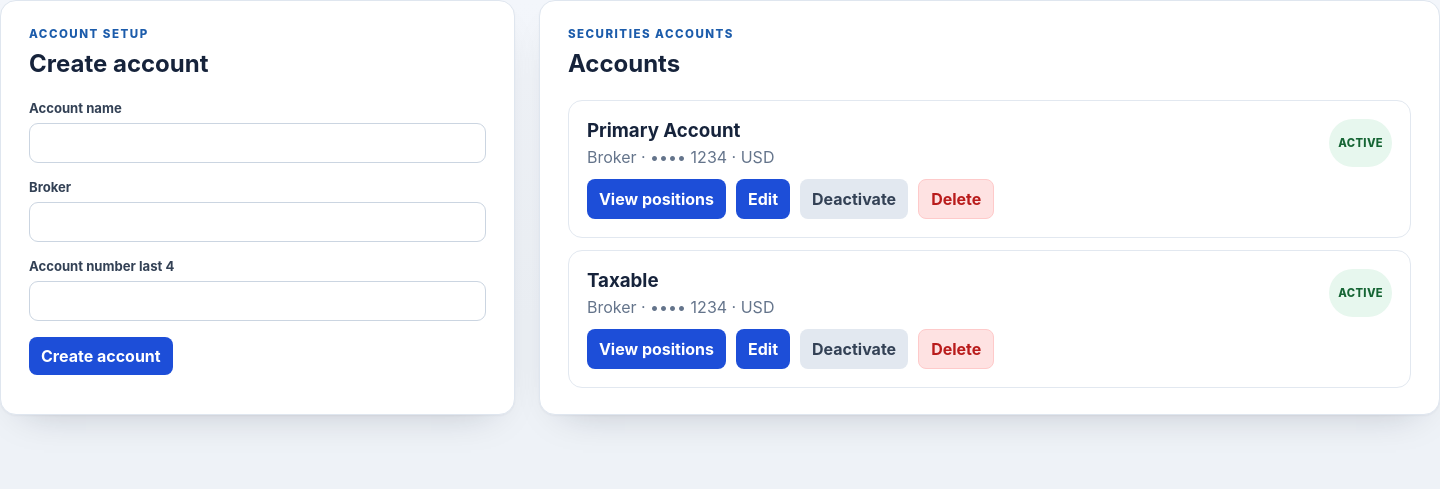
Scenario: Accounts page › hides an account after confirming retained-history deletion
The width and height of the screenshot is (1440, 489).
Click the button "Delete" below "Taxable": (956, 349) [918,329,994,369]
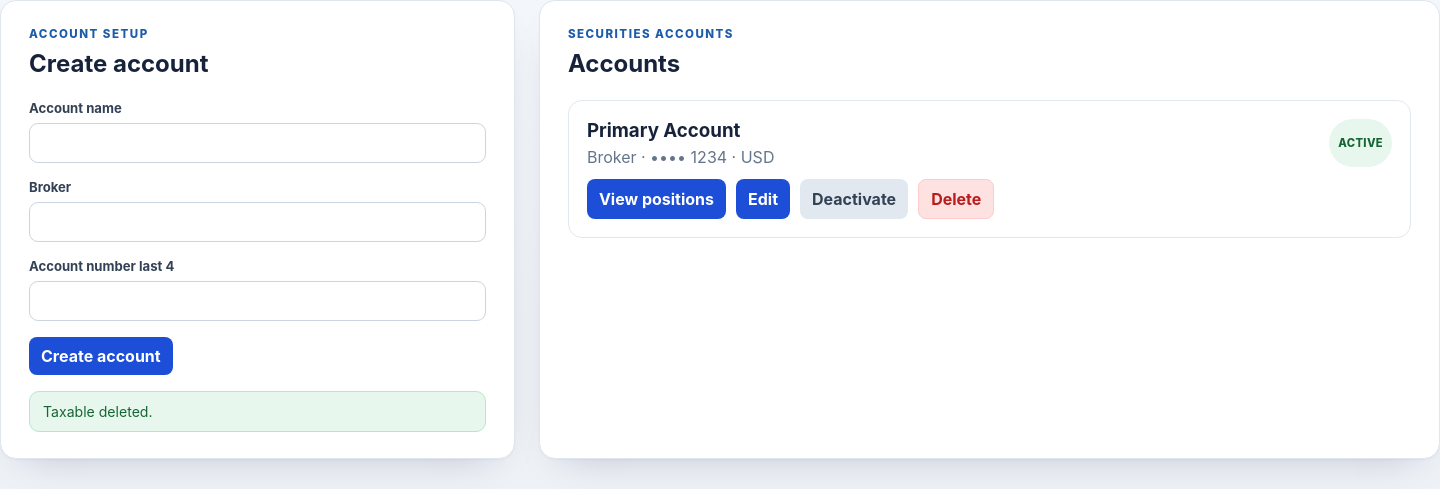
Result: the text "Taxable deleted." is shown at [29,391,486,432]
